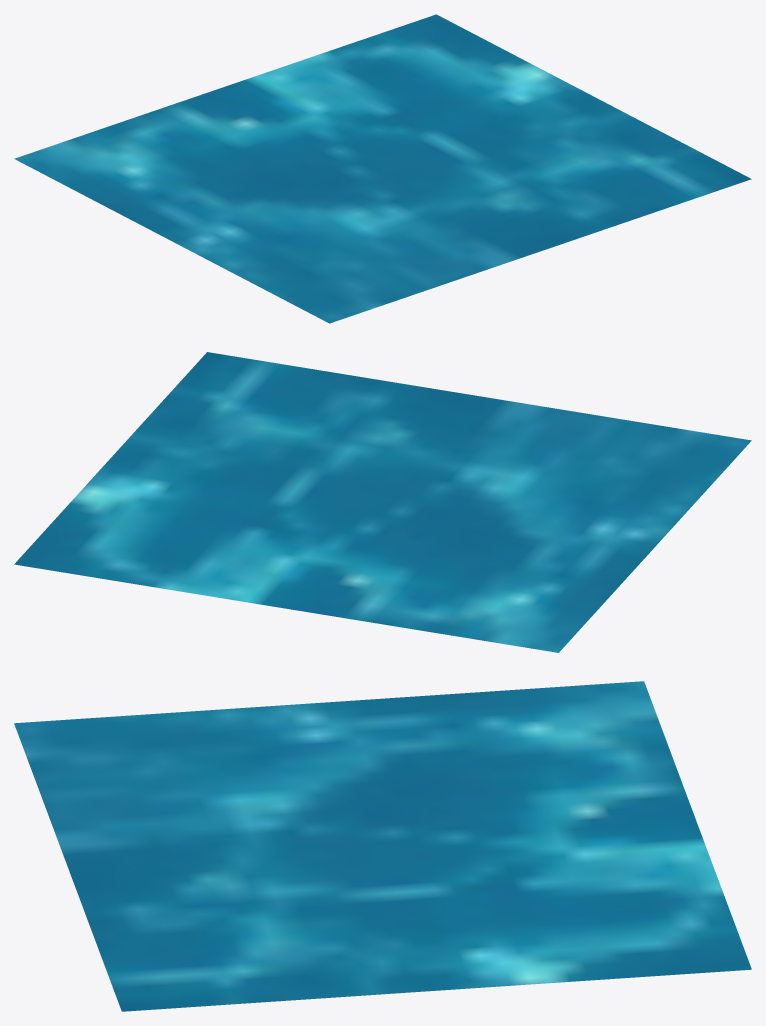
The model's file is tap water.FBX.
The picture shows the model from 3 angles, top to bottom: view 1: azimuth 30°, elevation 25°; view 2: azimuth 150°, elevation 25°; view 3: azimuth 270°, elevation 25°; orthographic projection. The views are drawn at different scales.
Parts seen in each view (by area): view 1: Plane001; view 2: Plane001; view 3: Plane001.
Part boxes in pixels (box(x1,y1,x2,y2)): Plane001: box(14, 14, 751, 323); Plane001: box(14, 352, 751, 652); Plane001: box(14, 681, 751, 1011).
Bounding box in the file's own units: 102 × 5.88e-15 × 96.09.
1 material, 1 textured.
